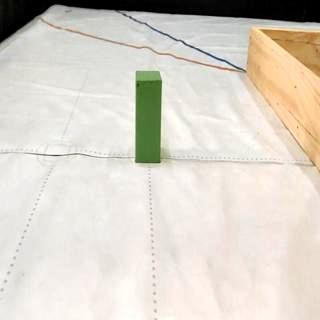greenbox: (136, 69, 162, 163)
